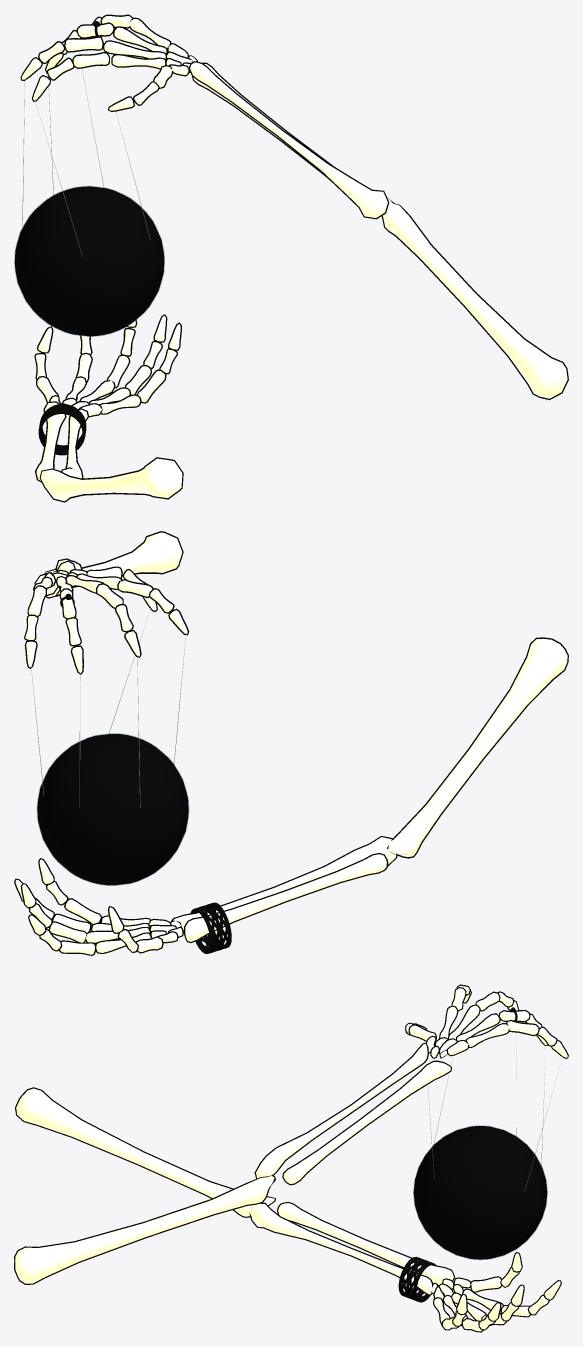
The model's file is DeathEarth.fbx.
3 renders of one model, top to bottom at view 1: azimuth 30°, elevation 25°; view 2: azimuth 150°, elevation 25°; view 3: azimuth 270°, elevation 25°, orthographic. The views are drawn at different scales.
Visible parts, largest first — view 1: Atmosfera, Cubo.027, Cubo.046, Círculo, Hilos; view 2: Atmosfera, Cubo.046, Cubo.027, Círculo, Hilos; view 3: Cubo.027, Atmosfera, Cubo.046, Círculo, Hilos.
Boxes of the visible parts, left/top/right/bottom form: Atmosfera: left=14, top=186, right=164, bottom=336; Cubo.027: left=20, top=14, right=568, bottom=400; Cubo.046: left=34, top=314, right=183, bottom=502; Círculo: left=38, top=404, right=86, bottom=455; Hilos: left=22, top=52, right=150, bottom=257; Atmosfera: left=37, top=733, right=188, bottom=885; Cubo.046: left=14, top=637, right=568, bottom=955; Cubo.027: left=24, top=531, right=189, bottom=674; Círculo: left=190, top=902, right=231, bottom=953; Hilos: left=31, top=608, right=186, bottom=807; Cubo.027: left=14, top=984, right=568, bottom=1284; Atmosfera: left=413, top=1125, right=547, bottom=1259; Cubo.046: left=15, top=1087, right=561, bottom=1332; Círculo: left=398, top=1256, right=435, bottom=1302; Hilos: left=424, top=1002, right=562, bottom=1192.
Size of the model in its own units: 3034 by 2557 by 3891.
